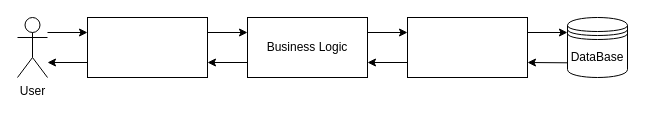
The diagram is 645 pixels wide and 116 high, and some of its shapes have lost their labels. The centre of each missing label's shape, as x and y in pixels:
"Data Access" goes at pixel 467 47.
"UI" goes at pixel 147 47.
